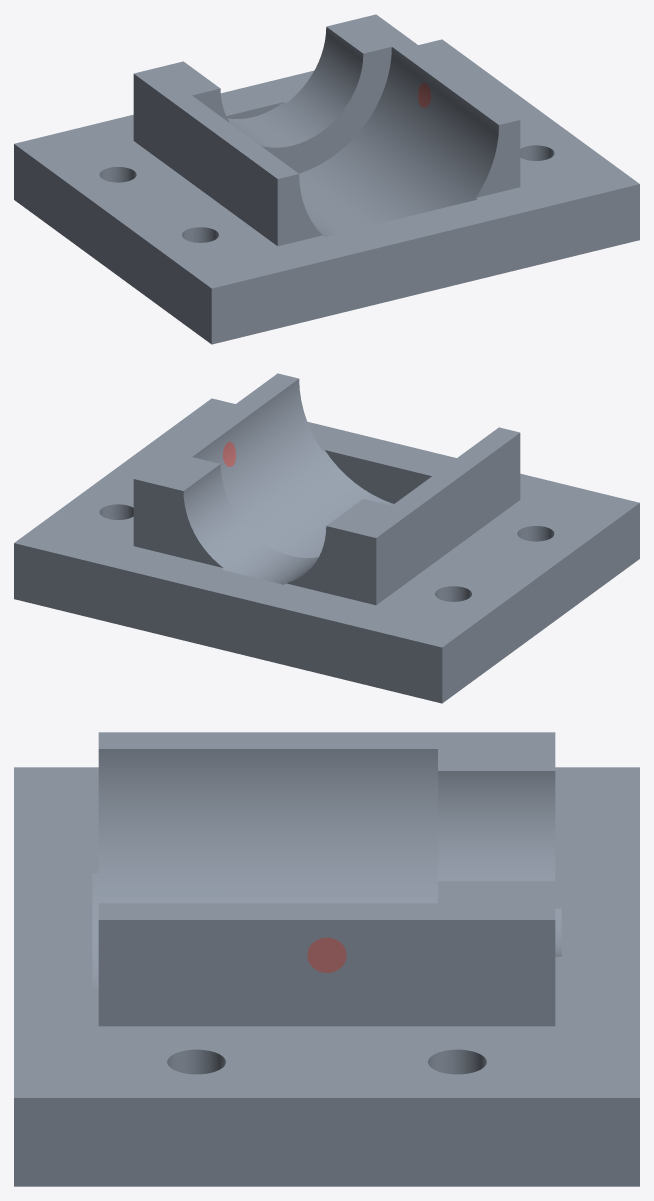
Rendered from step_06.glb.
3 views of the same model, one above another, from view 1: azimuth 30°, elevation 25°; view 2: azimuth 150°, elevation 25°; view 3: azimuth 270°, elevation 25° (orthographic). The views are drawn at different scales.
Visible parts, largest first — view 1: part__saddle bearing block; view 2: part__saddle bearing block; view 3: part__saddle bearing block, removed__saddle bearing block.
Boxes of the visible parts, <box> form: part__saddle bearing block: <box>14,14,639,344</box>; part__saddle bearing block: <box>14,373,639,703</box>; part__saddle bearing block: <box>14,732,639,1186</box>; removed__saddle bearing block: <box>307,937,346,972</box>.
Bounding box in the file's own units: 120 × 33 × 96.
